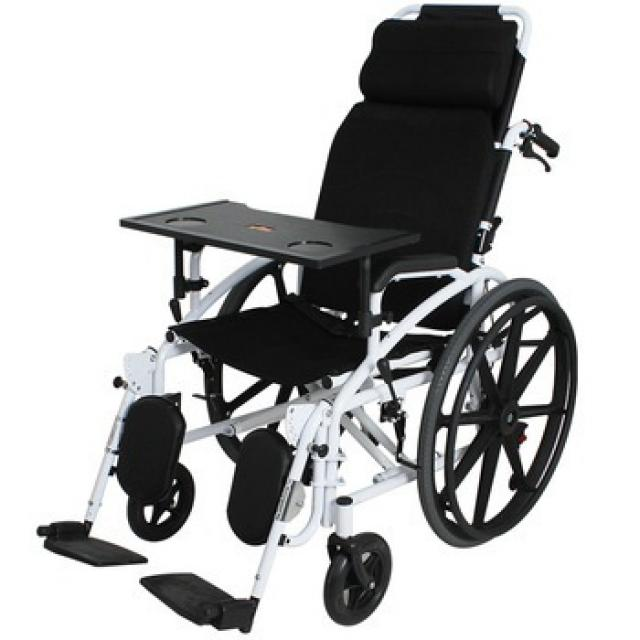wheelchair: (28, 0, 602, 640)
